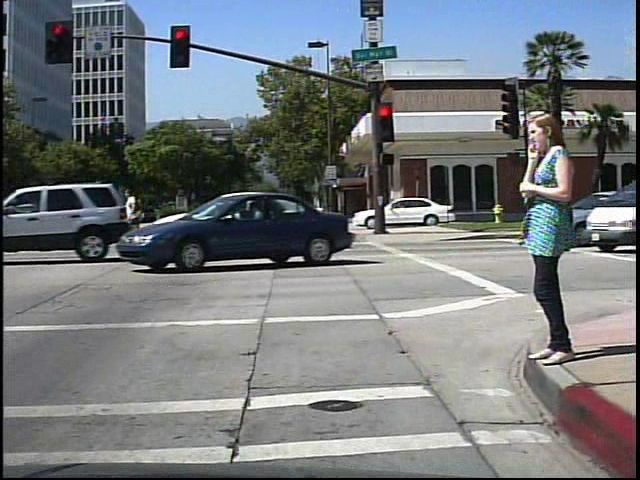person: (515, 103, 579, 375)
